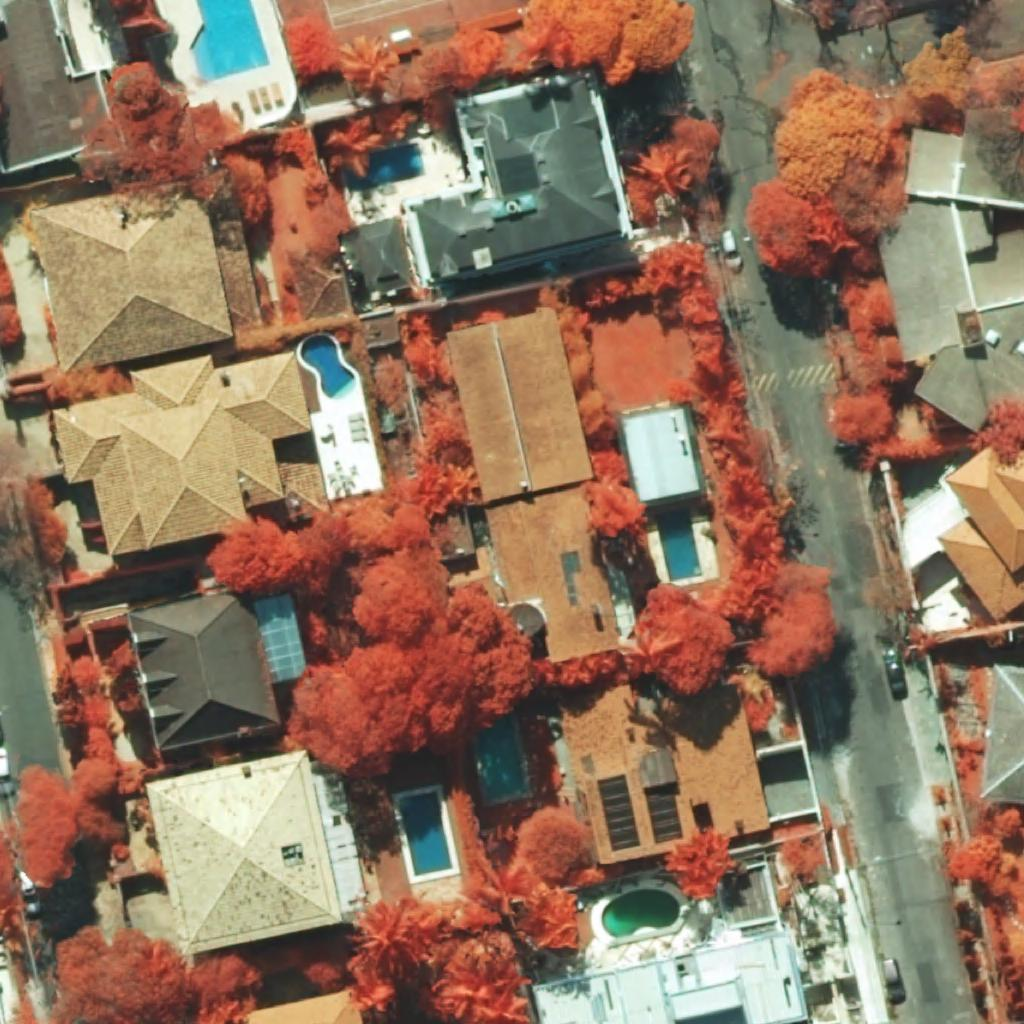pool: (189, 0, 270, 84), (400, 790, 452, 876), (478, 714, 526, 800), (345, 143, 426, 192), (602, 889, 680, 938), (655, 507, 703, 581), (301, 335, 356, 399)
